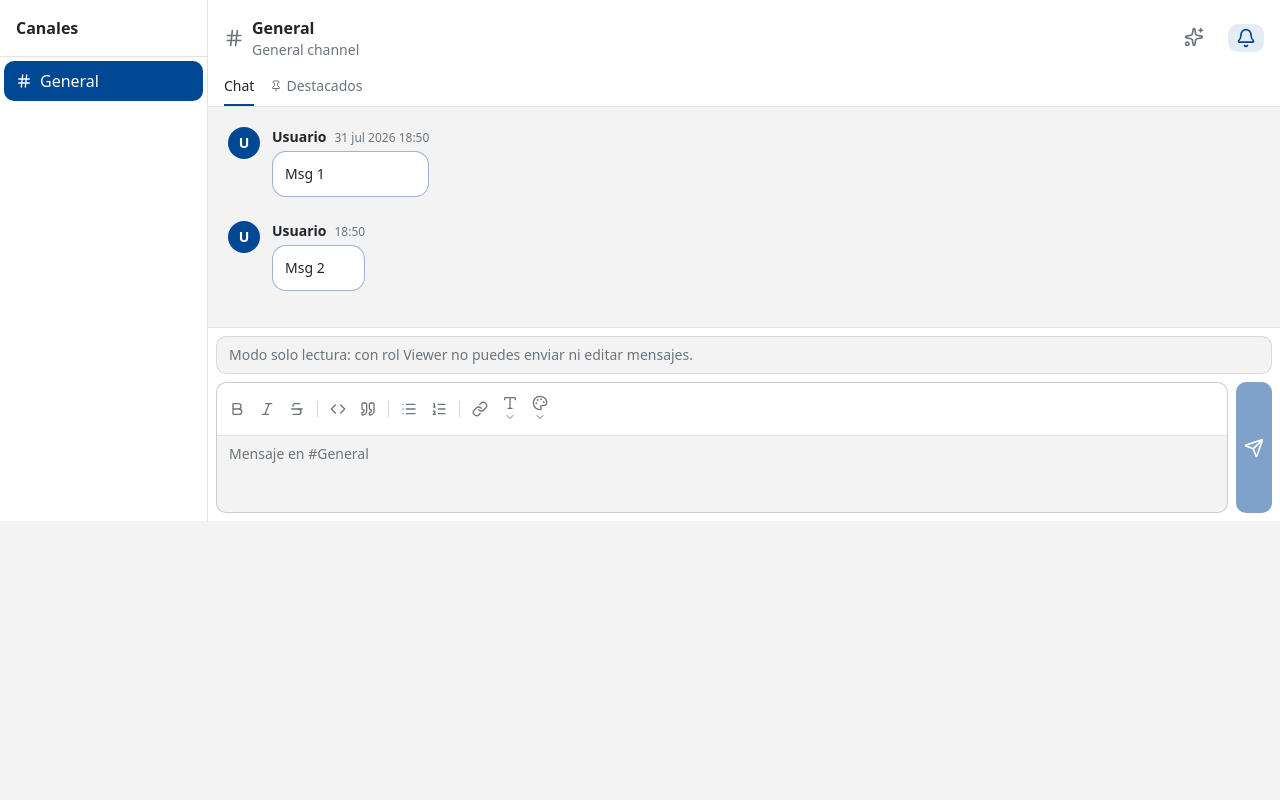
Test case: ChatView Summary › opens summary modal and generates summary
Expected: the text "General" is shown, [40, 69, 99, 93]
Click the button titled "Resumir chat con IA" at (1194, 37), box [1176, 23, 1212, 51]
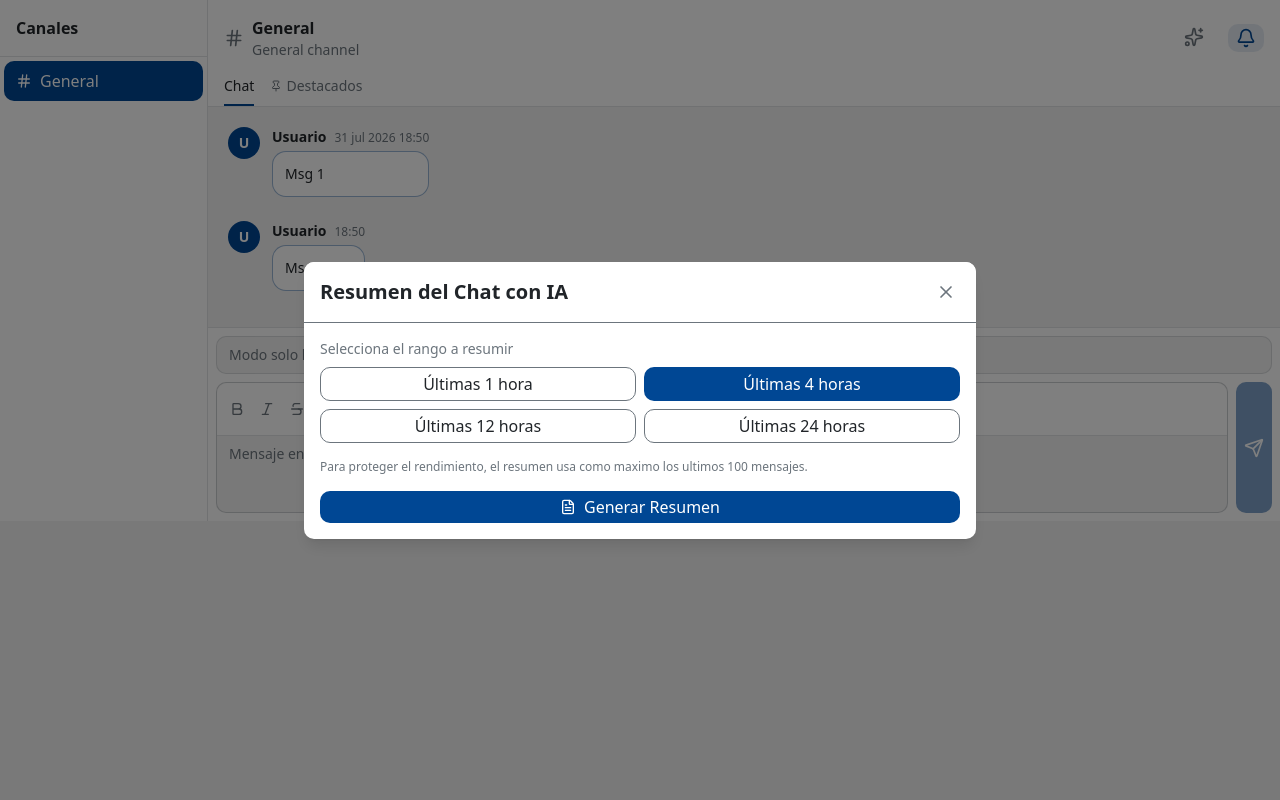
Expected: the heading "Resumen del Chat con IA" is shown, [320, 278, 568, 306]
# Trigger generation
Click the button "Generar Resumen" at (640, 506), box [320, 490, 960, 522]
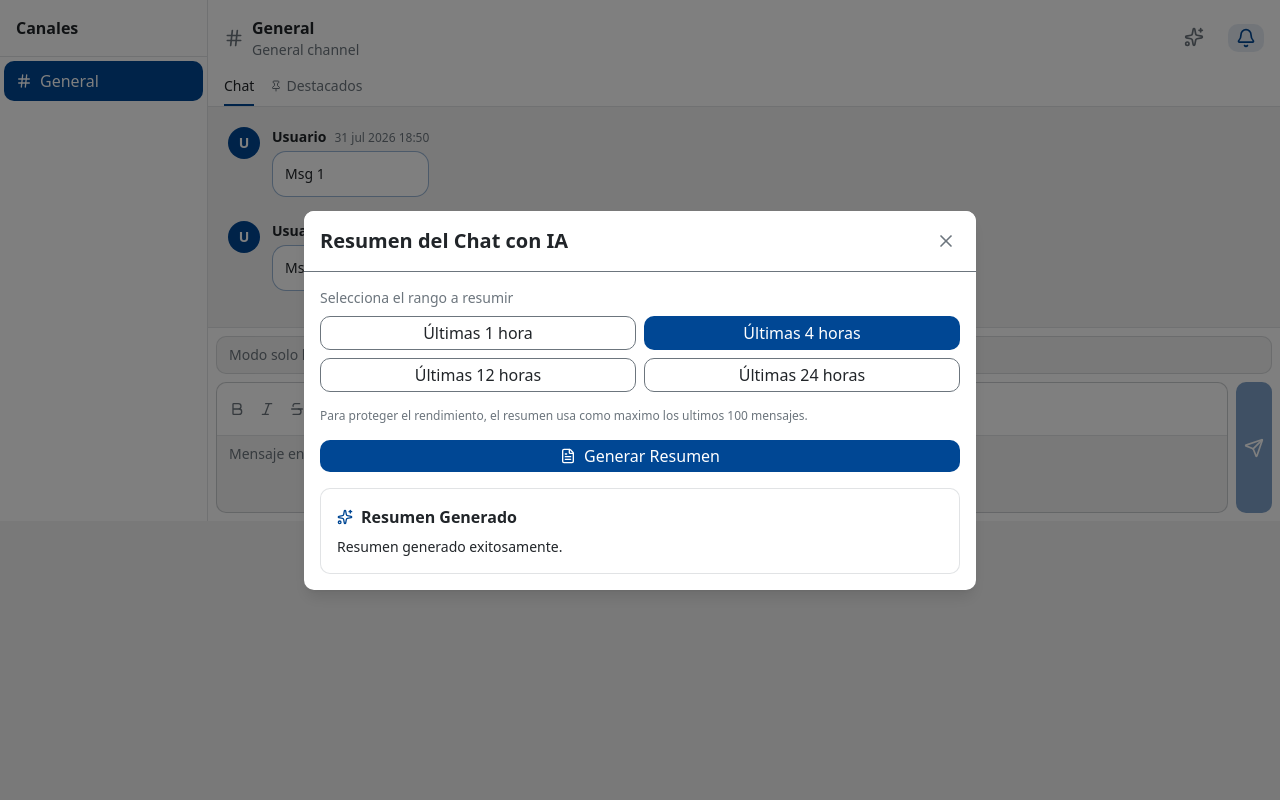
Expected: the text "Resumen generado exitosamente." is shown, [337, 536, 562, 556]
